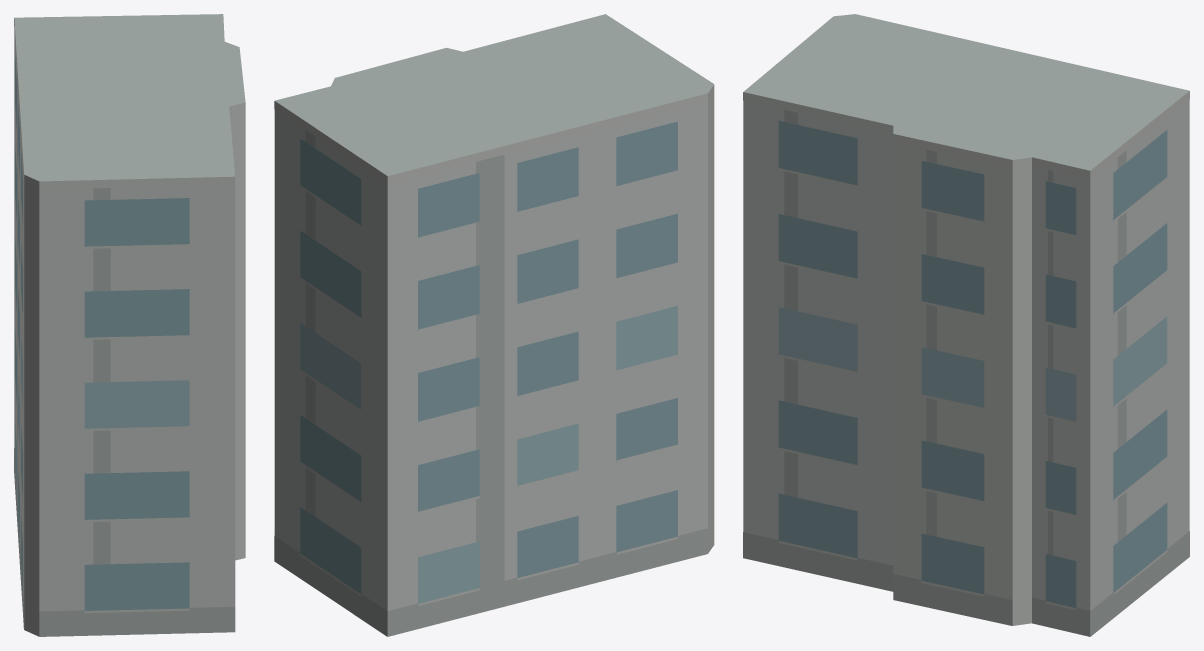
File: survey-upis-32729588.glb
3 views of the same model, side by side, from view 1: azimuth 30°, elevation 25°; view 2: azimuth 150°, elevation 25°; view 3: azimuth 270°, elevation 25° (orthographic). The views are drawn at different scales.
Parts seen in each view (by area): view 1: survey-upis-32729588.tmp; view 2: survey-upis-32729588.tmp; view 3: survey-upis-32729588.tmp.
Part boxes in pixels (box(x1,y1,x2,y2)): survey-upis-32729588.tmp: box(14, 14, 245, 636); survey-upis-32729588.tmp: box(274, 14, 714, 636); survey-upis-32729588.tmp: box(743, 14, 1189, 636).
Size of the model in its own units: 9.53 by 13.2 by 11.47.
